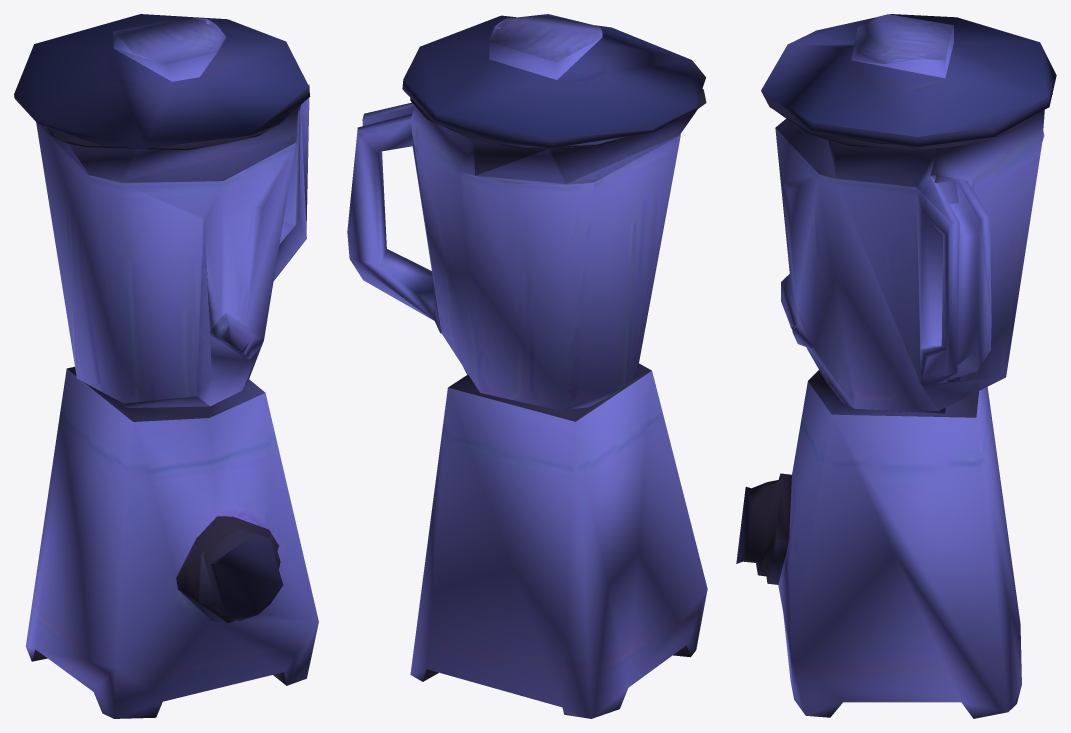
Rendered from model.progressive.glb.
3 renders of one model, left to right at view 1: azimuth 30°, elevation 25°; view 2: azimuth 150°, elevation 25°; view 3: azimuth 270°, elevation 25°, orthographic.
Visible parts, largest first — view 1: material; view 2: material; view 3: material.
Part boxes in pixels (x1,y1,x2,y2): material: [14, 14, 318, 718]; material: [347, 14, 707, 718]; material: [736, 14, 1056, 718].
Bounding box in the file's own units: 0.953 × 1.89 × 0.865.
1 material, 1 textured.
